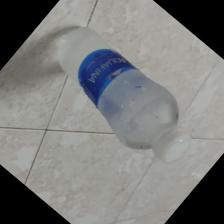Aquafina: (53, 25, 191, 165)
